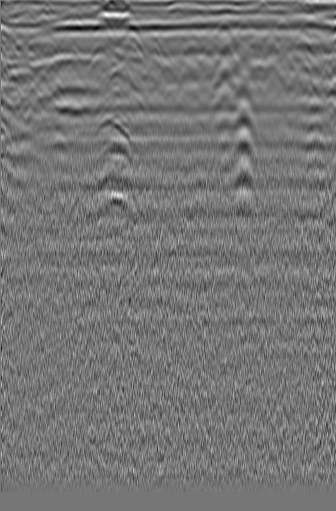가스: (90, 155, 136, 197)
상수: (4, 36, 41, 78)
오수: (284, 23, 322, 58)
우수: (143, 35, 170, 62)
